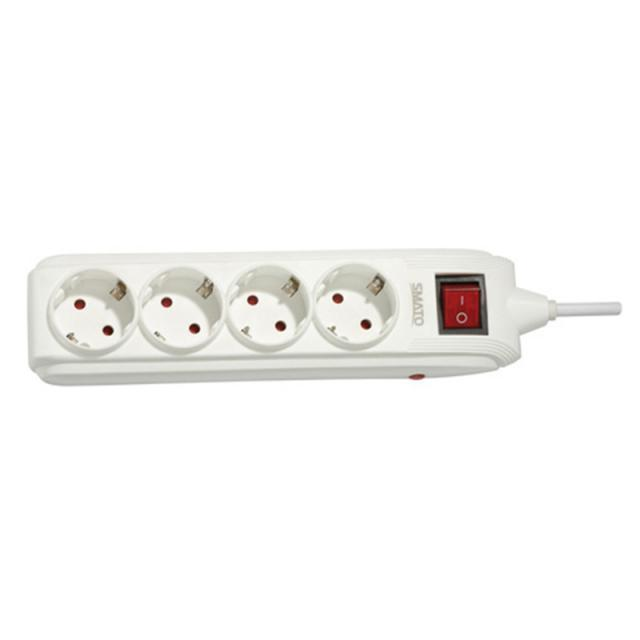typeb: (0, 210, 592, 467)
